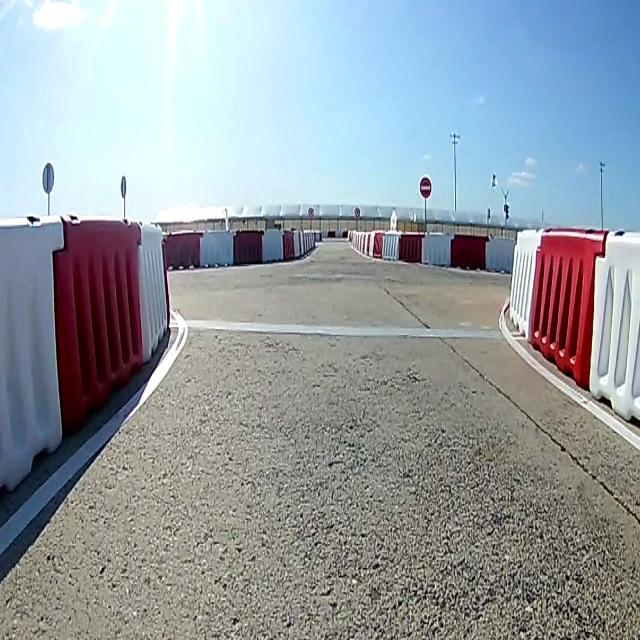girisyok: (419, 176, 432, 200)
